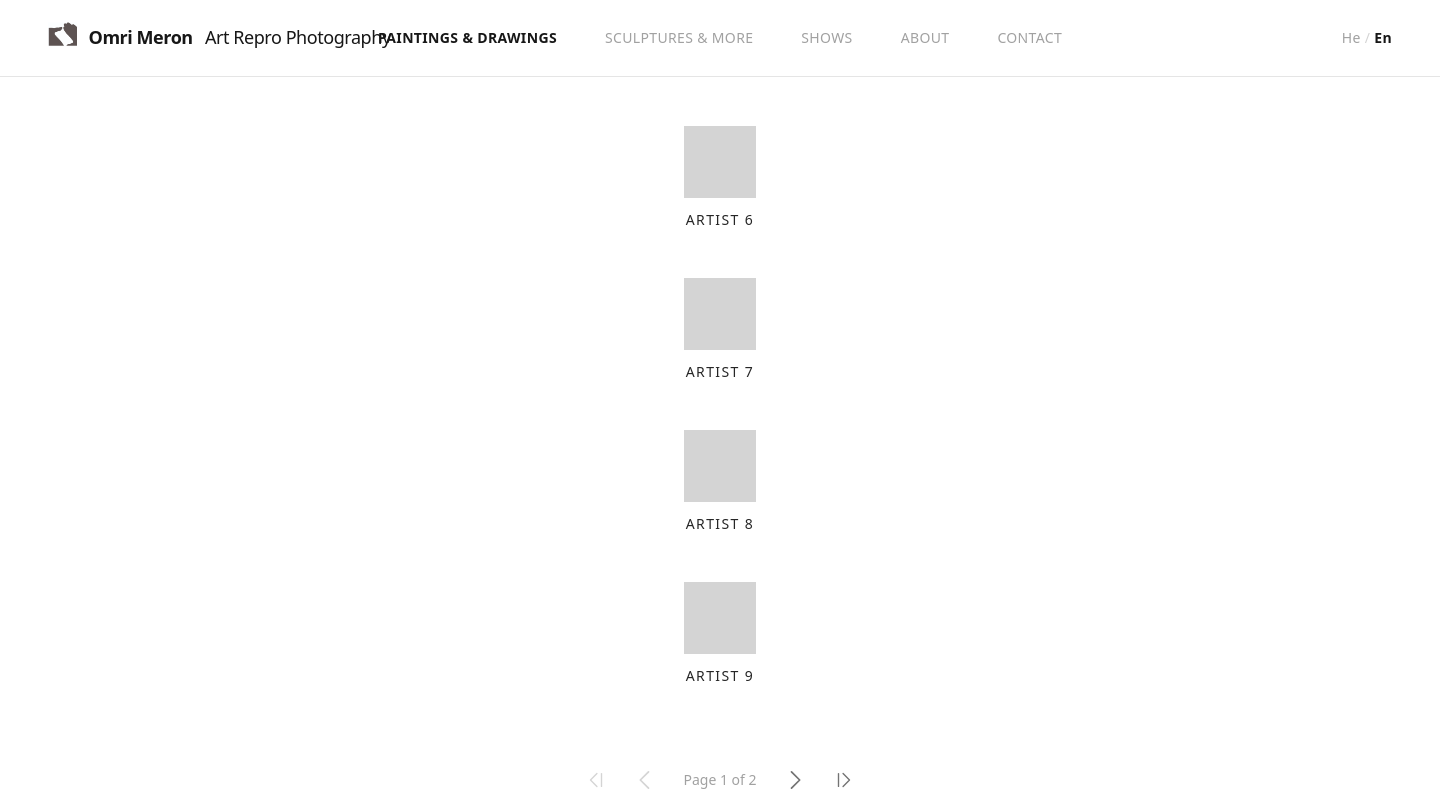
Test case: GalleryGrid pagination › advances to the next page and back after the crossfade
The width and height of the screenshot is (1440, 802).
(page scrolled)
Click the button named "Next page". click: (794, 780)
box: [780,766,808,794]
Wait 400 ms
(page scrolled)
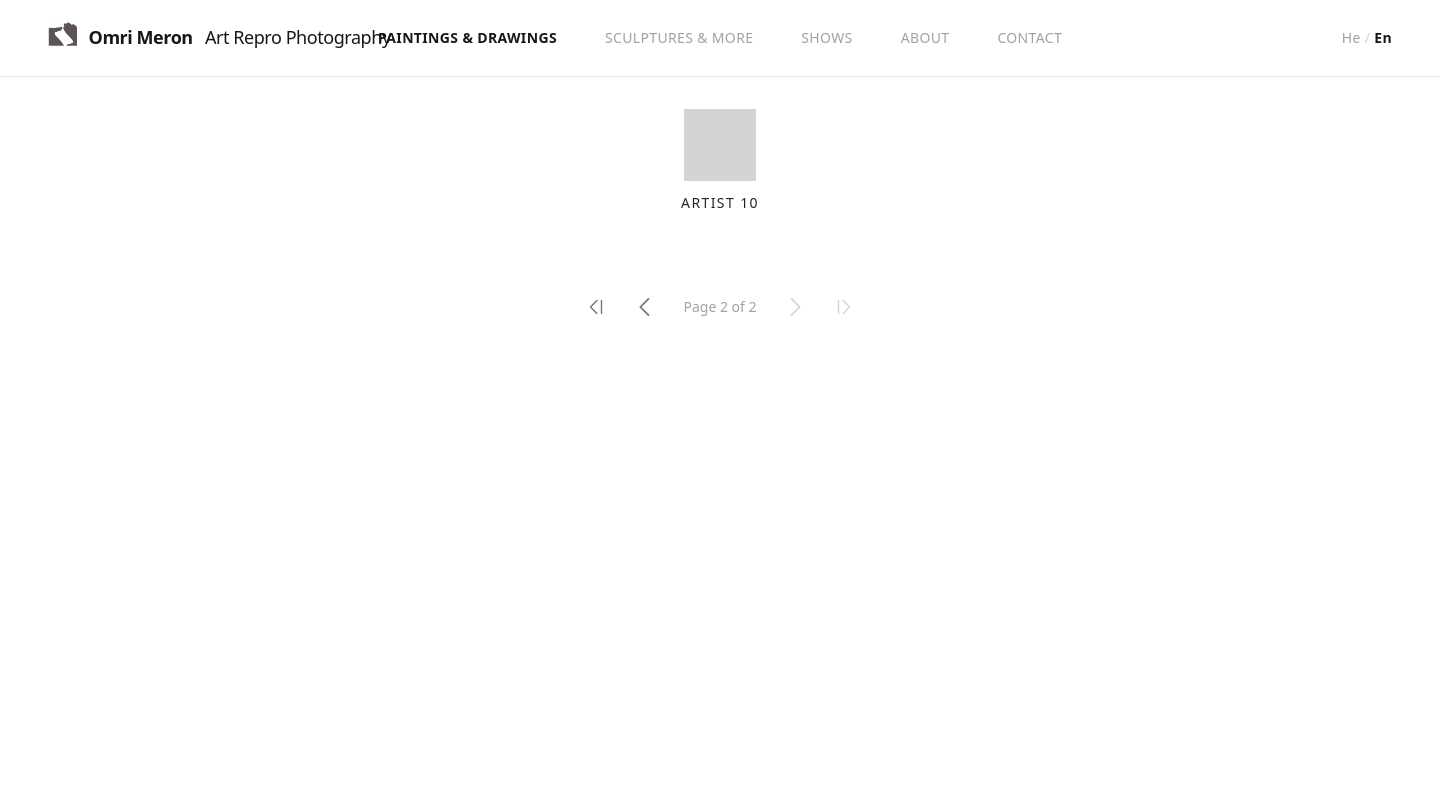
Result: the text "Artist 10" is shown at [681,193,759,213]
Result: the button named "Next page" is disabled at [780,293,808,321]
Click the button named "First page". click: (596, 307)
box: [586,296,608,318]
Wait 400 ms
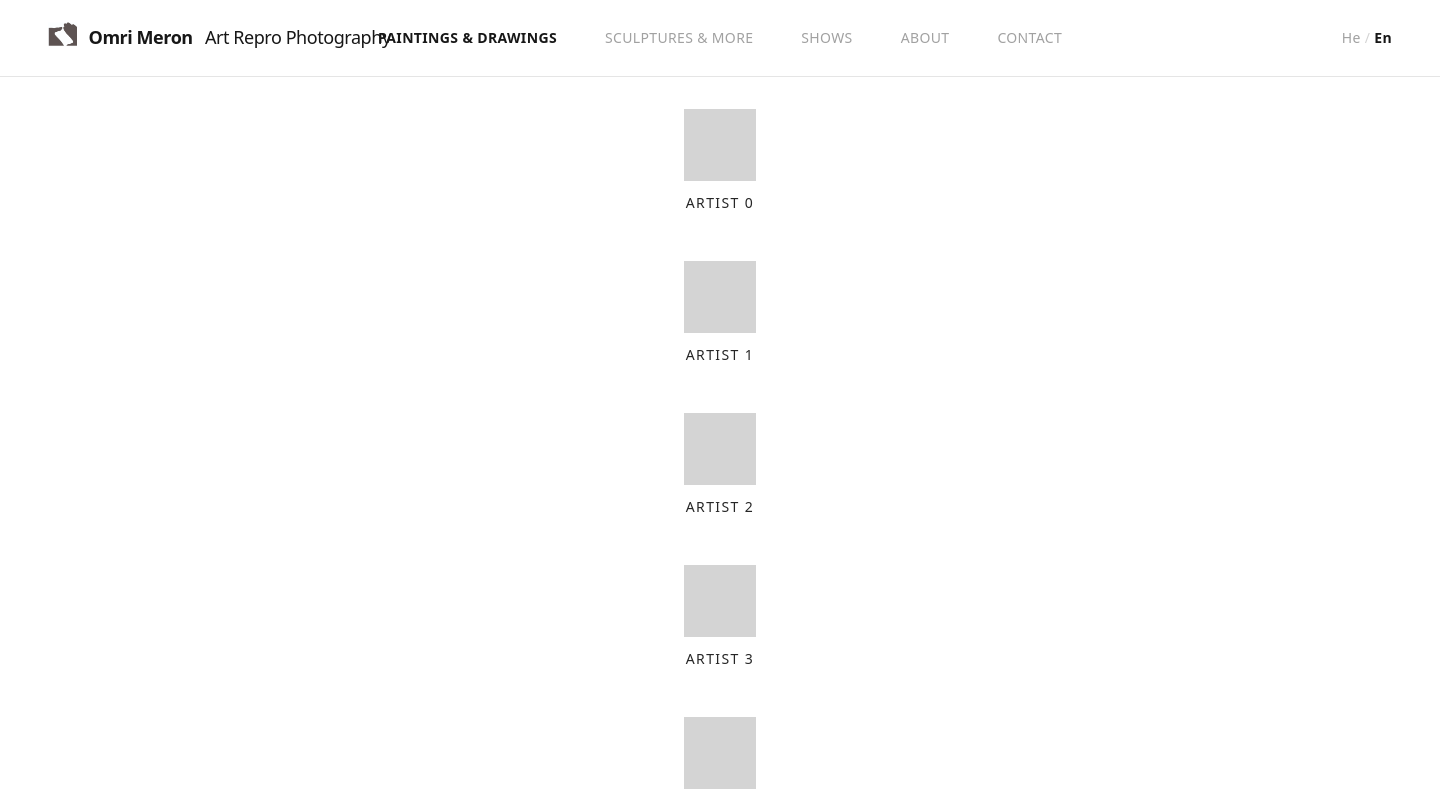
Result: the text "Artist 0" is shown at [686,193,754,213]
